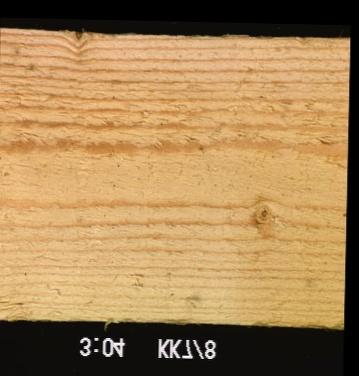edge_knot: (67, 26, 90, 51)
small_knot: (246, 195, 287, 240)
